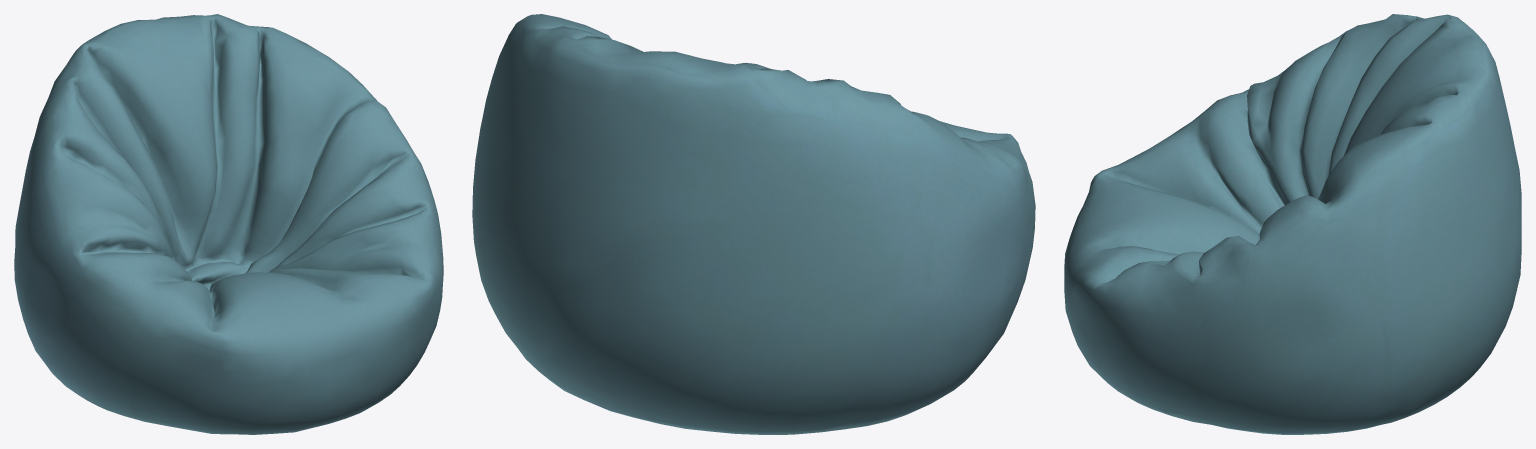
The model's file is bean_bag.glb.
The picture shows the model from 3 angles, left to right: view 1: azimuth 30°, elevation 25°; view 2: azimuth 150°, elevation 25°; view 3: azimuth 270°, elevation 25°; orthographic projection. The views are drawn at different scales.
Size of the model in its own units: 1 by 0.7407 by 1.
Materials: 1 (1 with a texture image).
